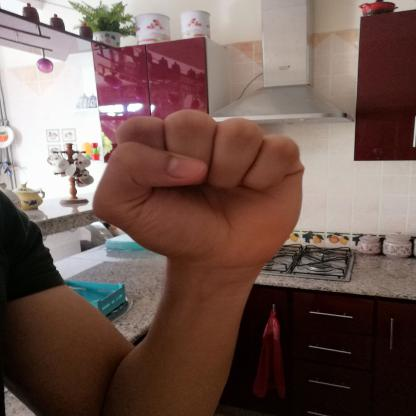SAD: (76, 99, 332, 279)
